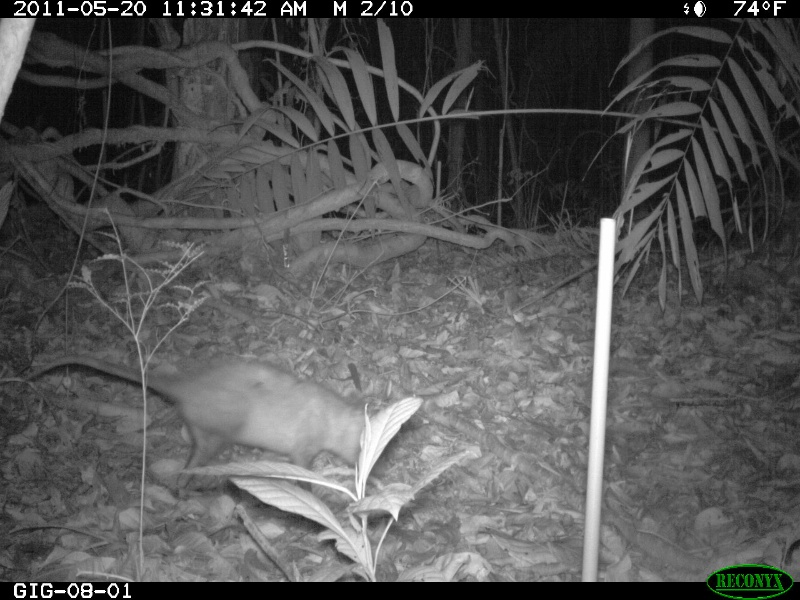opossum: (24, 351, 395, 489)
